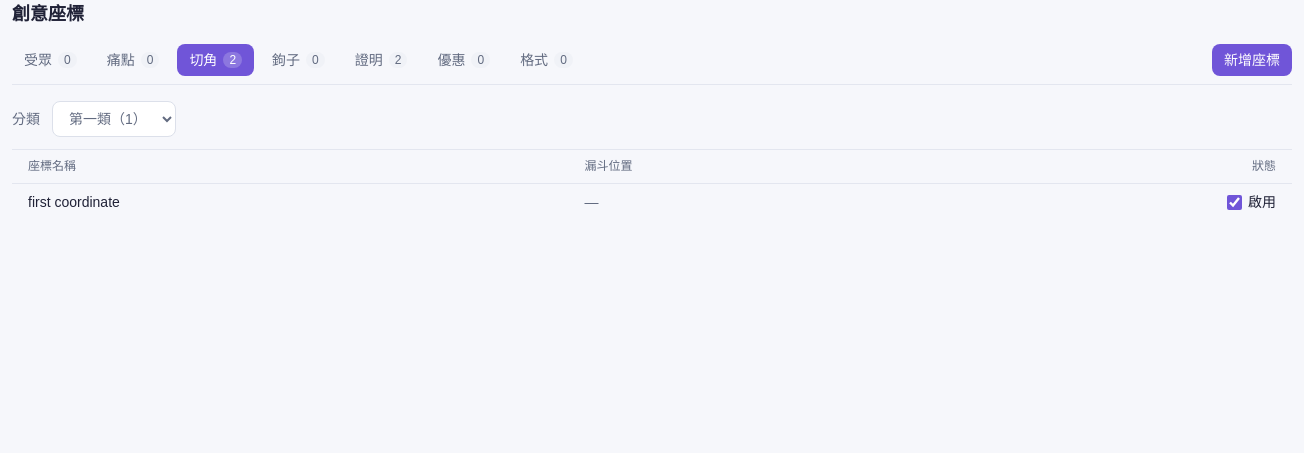
Test case: coordinate context survives saves (F52-I15) › retains confirmed saved rows and category when reread fails, and retries without clearing the screen
The image size is (1304, 453).
Select "第二類（1）" in the dropdown labelled "分類" at (114, 119), box 52,101 -> 176,137
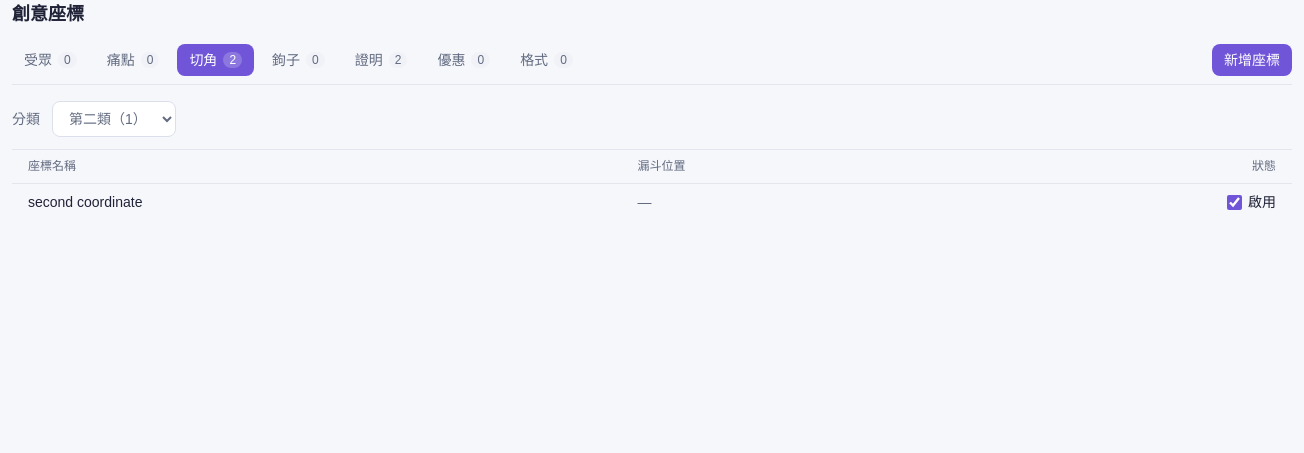
Now the text "second coordinate" is shown, box 12,184 -> 622,220
Click the checkbox labelled "啟用".
click(1234, 202)  # box 1227,195 -> 1242,210
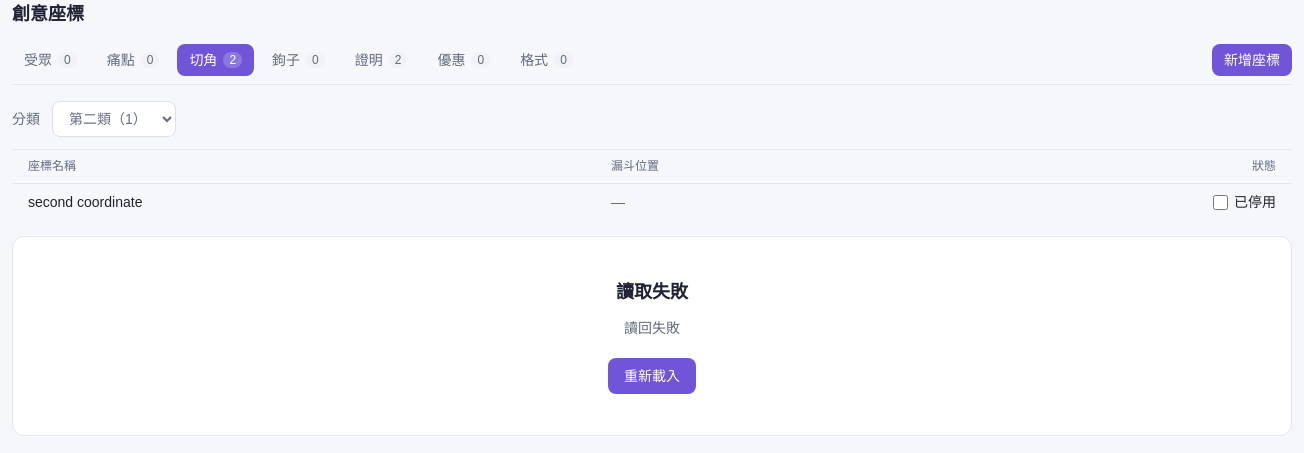
Expected: the checkbox labelled "已停用" is shown, 1213,195 -> 1228,210
Now the text "讀回失敗" is shown, box 624,318 -> 680,338
Click the button "重新載入".
click(652, 376)  # box 608,358 -> 696,394
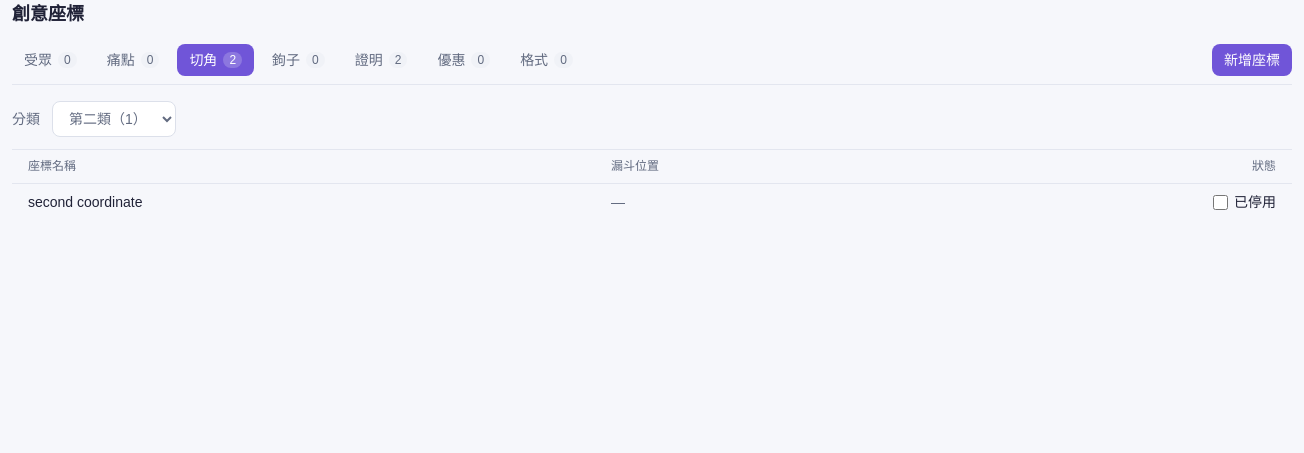
Now the text "讀回失敗" is gone
